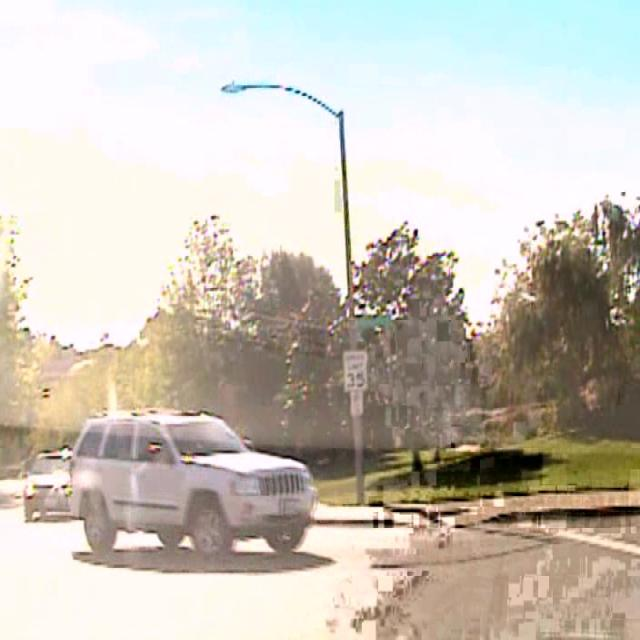speedLimit35: (341, 347, 368, 393)
